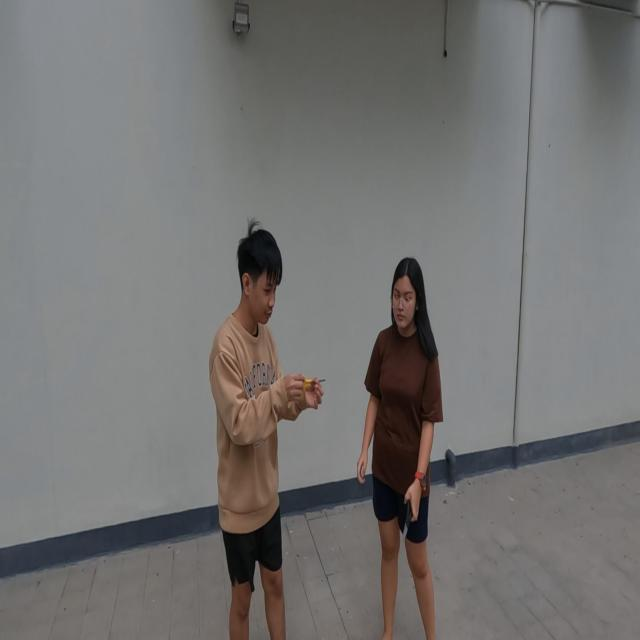scissor: (402, 499, 413, 546), (303, 374, 326, 396)
